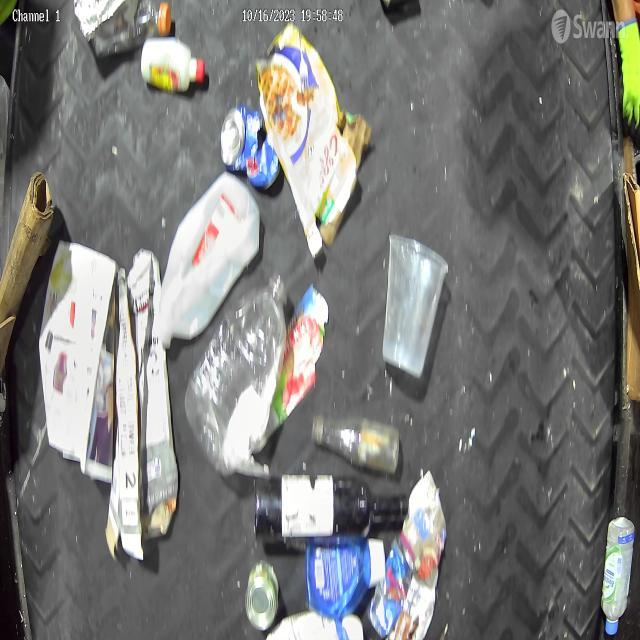can: (216, 107, 284, 205)
milk_jug: (155, 170, 261, 354)
plastic_bottle: (186, 272, 287, 478), (597, 516, 634, 640)
